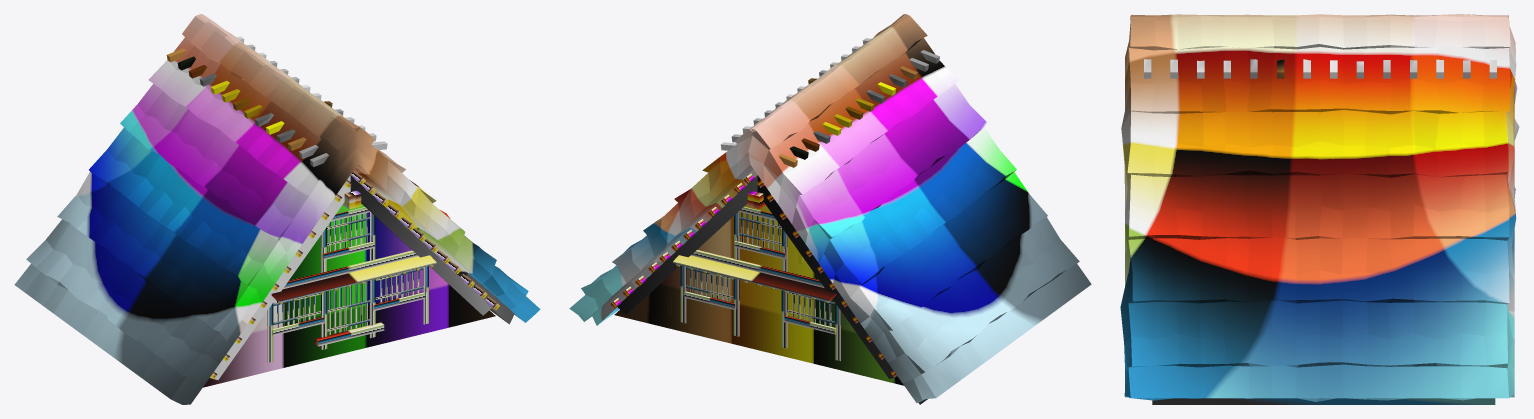
The model's file is cottage_1.fbx.
The picture shows the model from 3 angles, left to right: view 1: azimuth 30°, elevation 25°; view 2: azimuth 150°, elevation 25°; view 3: azimuth 270°, elevation 25°; orthographic projection. The views are drawn at different scales.
Parts seen in each view (by area): view 1: cottage; view 2: cottage; view 3: cottage.
Part boxes in pixels (x1,y1,x2,y2): cottage: (14,14,540,404); cottage: (569,14,1091,404); cottage: (1120,14,1519,404).
Size of the model in its own units: 1377 by 866 by 1065.
